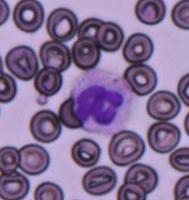N: (70, 68, 136, 134)
